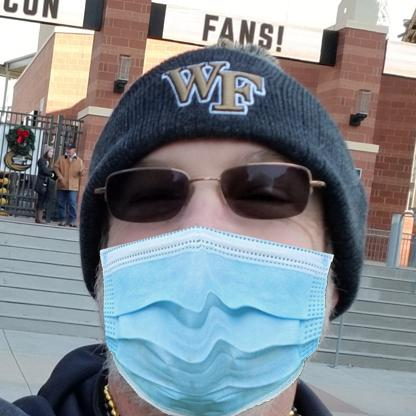mask: (97, 226, 337, 416)
